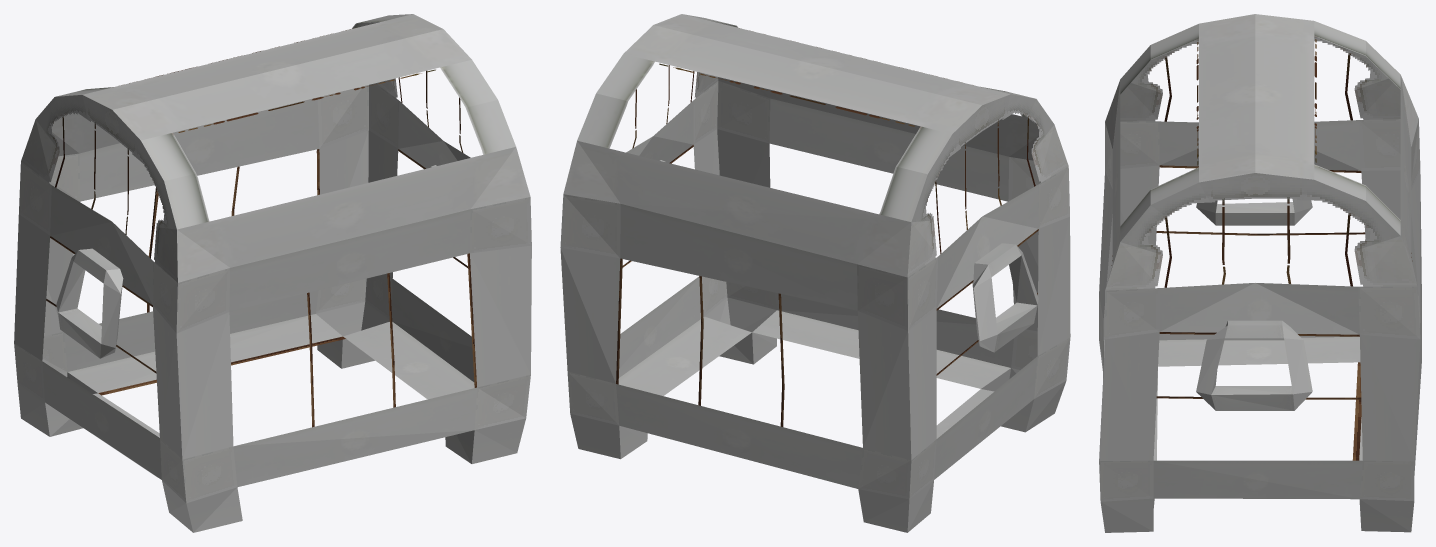
Rendered from crate-wood-lod0.glb.
3 renders of one model, left to right at view 1: azimuth 30°, elevation 25°; view 2: azimuth 150°, elevation 25°; view 3: azimuth 270°, elevation 25°, orthographic.
Visible parts, largest first — view 1: crate-wood-lod0; view 2: crate-wood-lod0; view 3: crate-wood-lod0.
Boxes of the visible parts, x1,y1,x2,y2 form: crate-wood-lod0: (14,14,531,532); crate-wood-lod0: (560,14,1070,532); crate-wood-lod0: (1099,14,1421,532).
Bounding box in the file's own units: 2.32 × 2.04 × 1.65.
8 materials, 8 textured.
